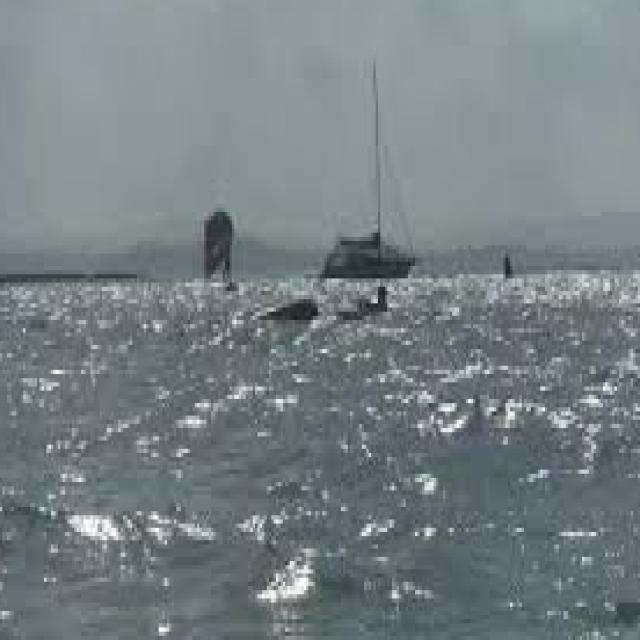fishing boat: (316, 70, 419, 278)
